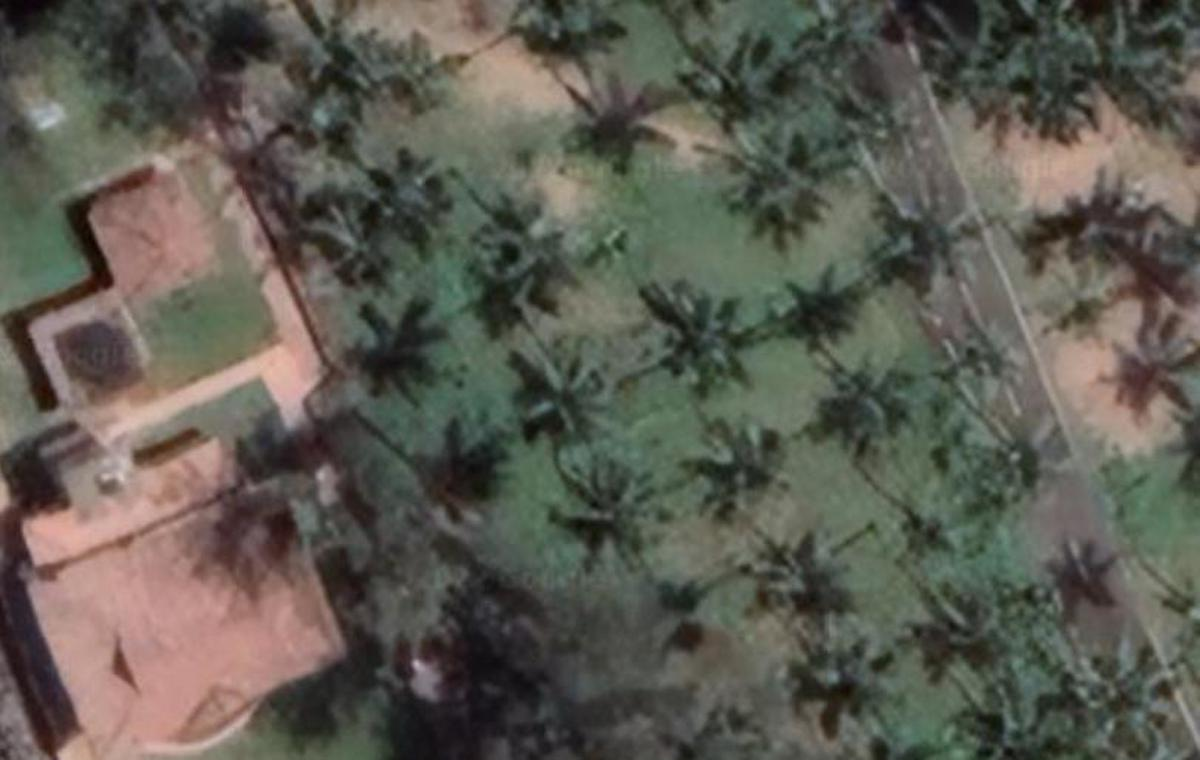coconut: (1035, 152, 1167, 283), (546, 446, 662, 566), (923, 304, 1037, 425), (644, 270, 758, 390), (669, 402, 784, 520), (1064, 638, 1180, 754), (982, 0, 1100, 112), (721, 125, 837, 238), (956, 394, 1065, 513), (800, 357, 922, 462), (511, 334, 616, 448), (1106, 307, 1200, 434), (873, 190, 979, 295), (817, 72, 926, 174), (1077, 0, 1183, 104), (747, 527, 852, 631), (678, 19, 780, 125), (266, 70, 379, 161), (945, 677, 1068, 760), (484, 195, 574, 304), (305, 205, 404, 301), (923, 573, 1019, 671), (800, 631, 892, 725), (795, 0, 892, 82), (366, 140, 449, 235)
